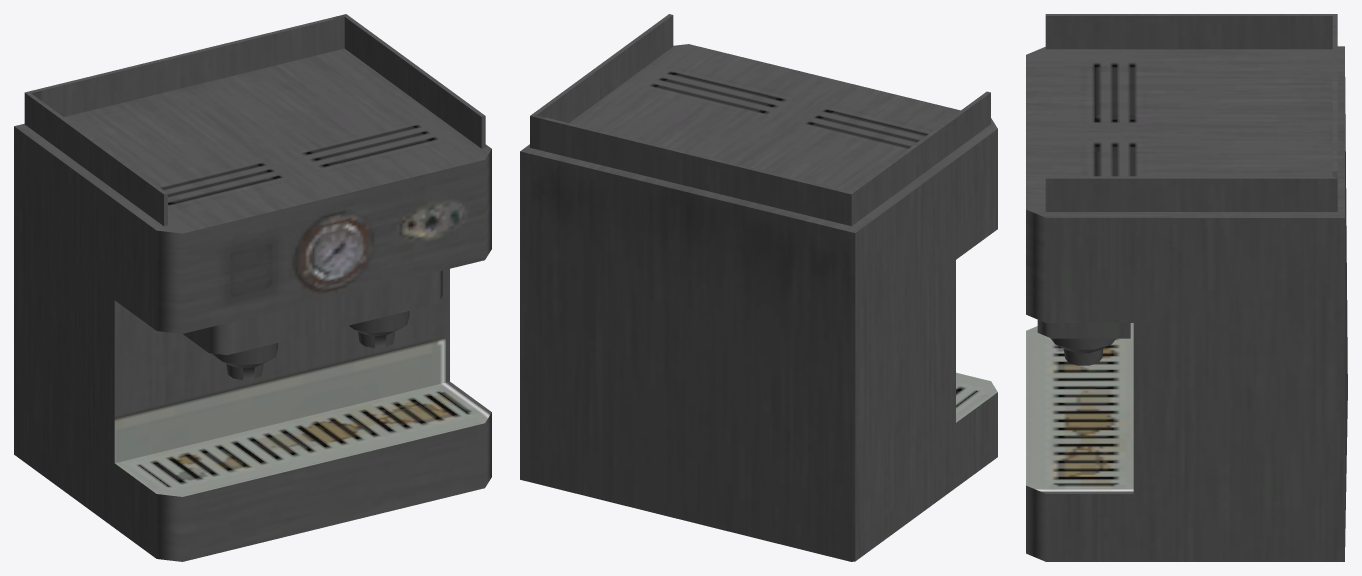
Rendered from hjk_cafe_coffee_machine01_lod1.glb.
3 renders of one model, left to right at view 1: azimuth 30°, elevation 25°; view 2: azimuth 150°, elevation 25°; view 3: azimuth 270°, elevation 25°, orthographic. The views are drawn at different scales.
Parts seen in each view (by area): view 1: surf0, surf1; view 2: surf0, surf1; view 3: surf0, surf1.
Boxes of the visible parts, x1=… form: surf0: x1=14, y1=14, x2=491, y2=561; surf1: x1=14, y1=126, x2=491, y2=496; surf0: x1=520, y1=14, x2=997, y2=561; surf1: x1=670, y1=44, x2=997, y2=560; surf0: x1=1026, y1=14, x2=1347, y2=561; surf1: x1=1026, y1=47, x2=1344, y2=561.
Size of the model in its own units: 20.16 by 20.85 by 16.
